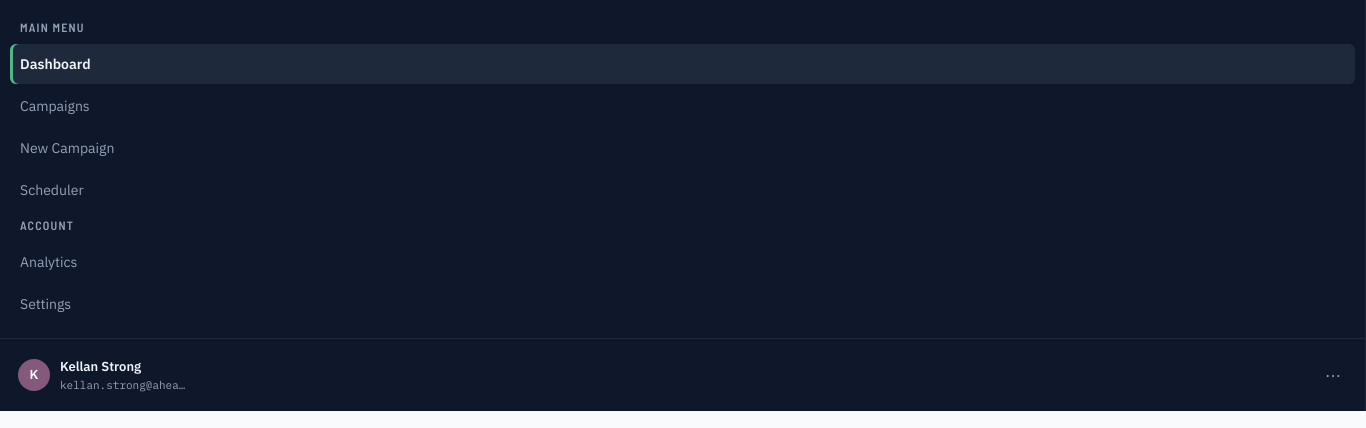
Scenario: Sidebar user menu › hides the logout panel when the ellipsis button is clicked again
Click the button named "user menu" at (1333, 375), box [1319,360,1347,390]
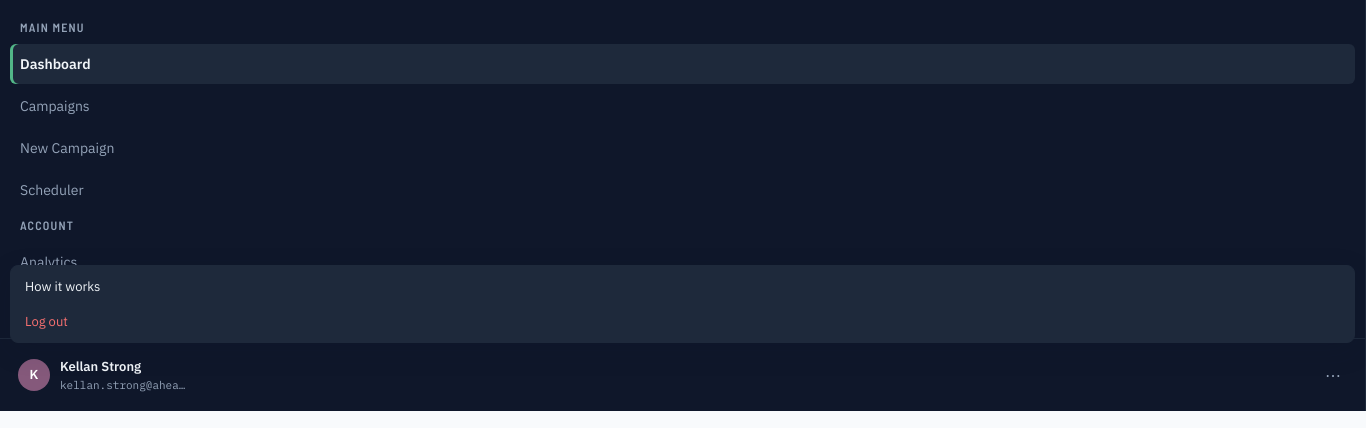
expect the menu is shown: met, box [10,265,1355,343]
Click the button named "user menu" at (1333, 375), box [1319,360,1347,390]
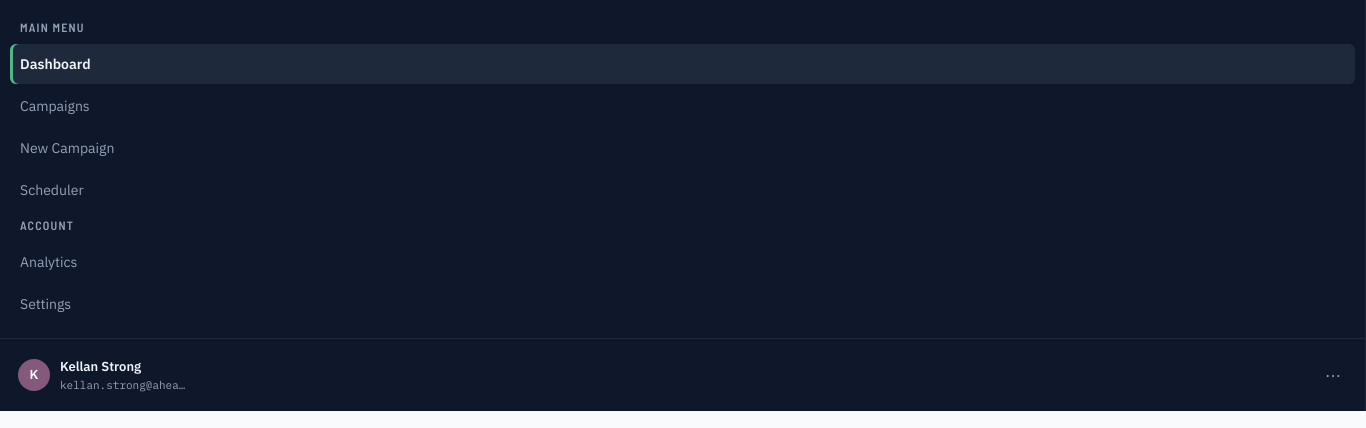
expect the menu is gone: met
